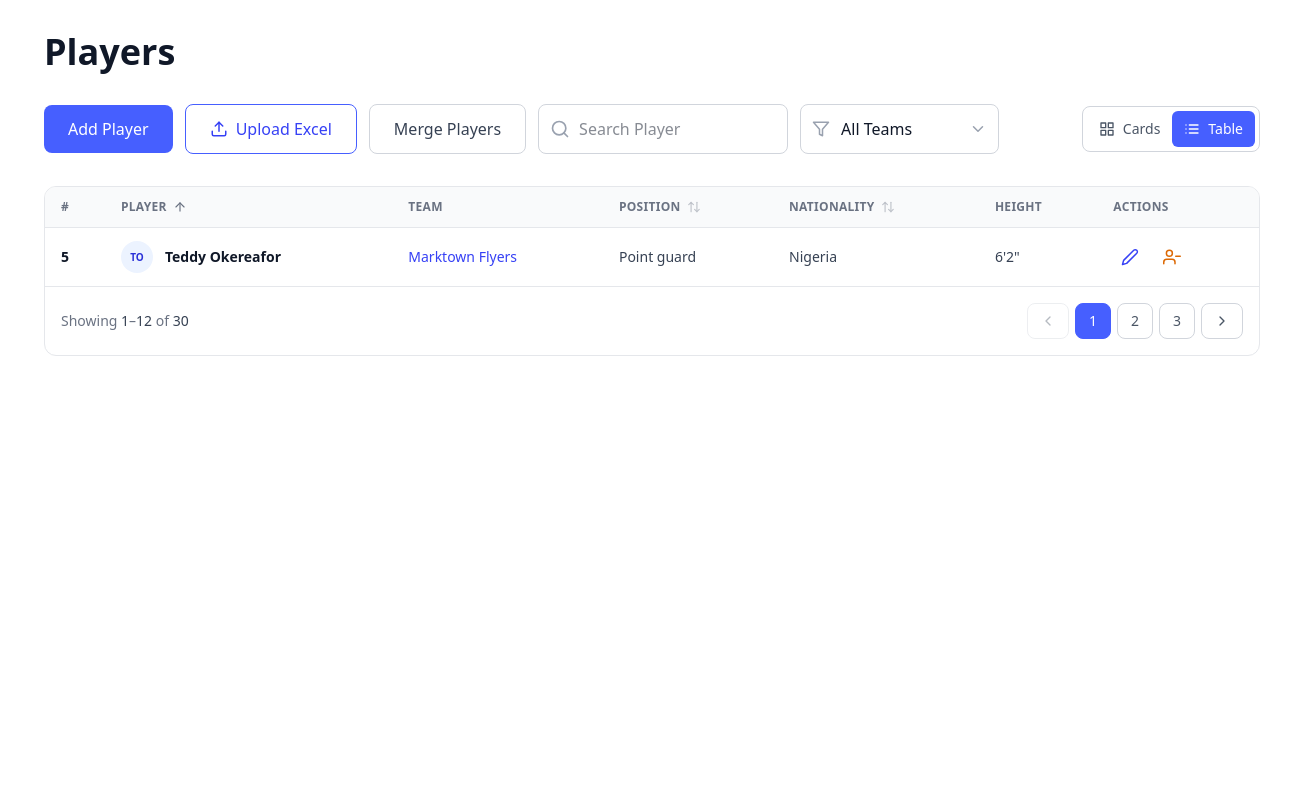
Test case: Players: search, filter and sort go through the URL › pages through the server pages rather than slicing one in the browser
This screenshot has width=1292, height=800.
Click the button "2" at (1135, 321), box [1117,303,1153,339]
(page scrolled)
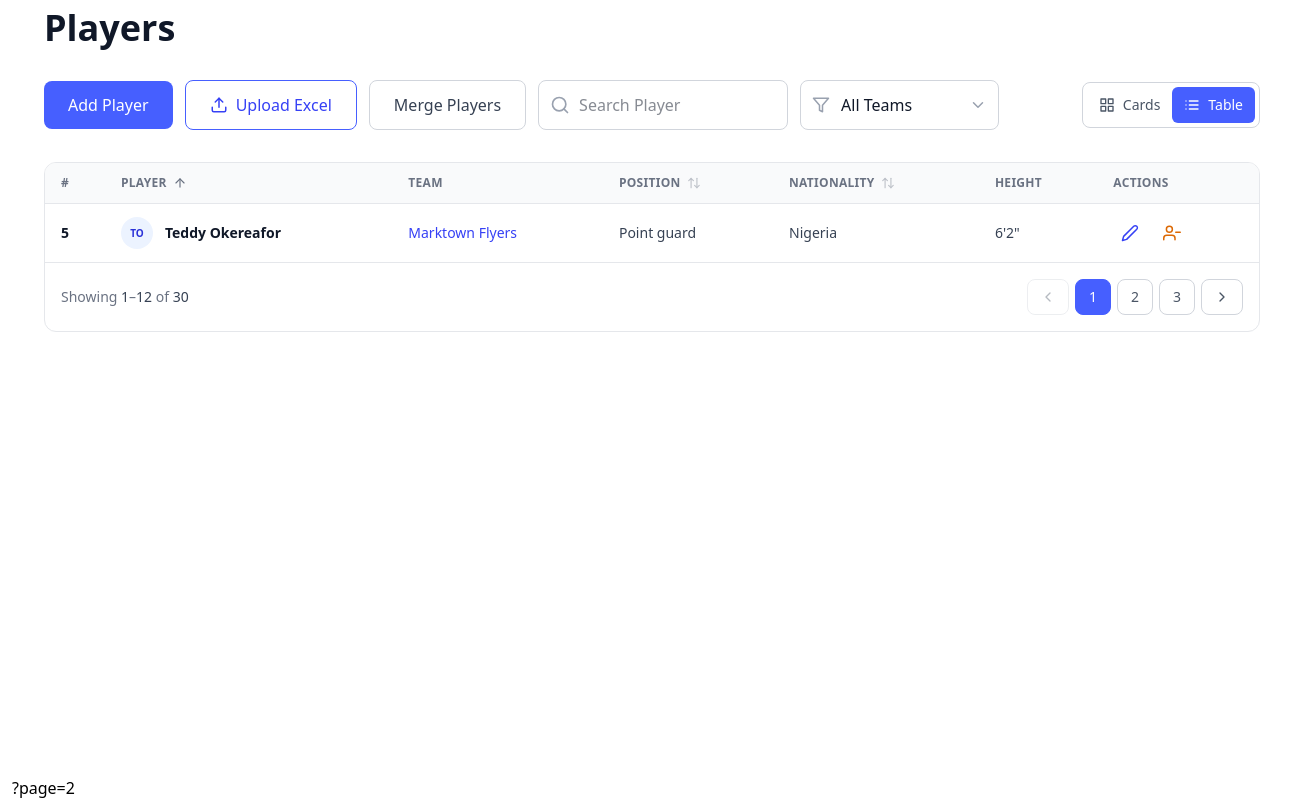
Expected: the text with test id "where" shows "page=2", [12,777,75,799]
